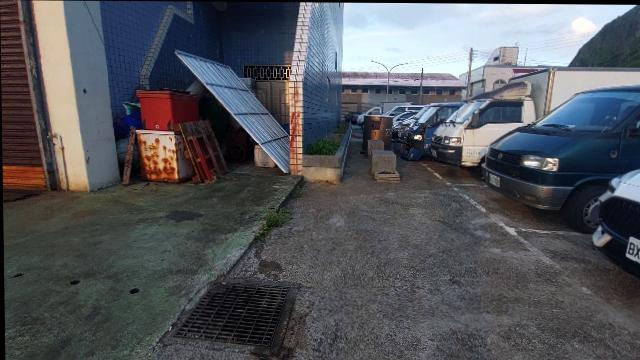pollute: (172, 117, 227, 182), (134, 129, 189, 184), (137, 90, 201, 129), (112, 100, 141, 136), (122, 126, 137, 183), (226, 127, 248, 160), (253, 143, 275, 168), (115, 138, 128, 165)
